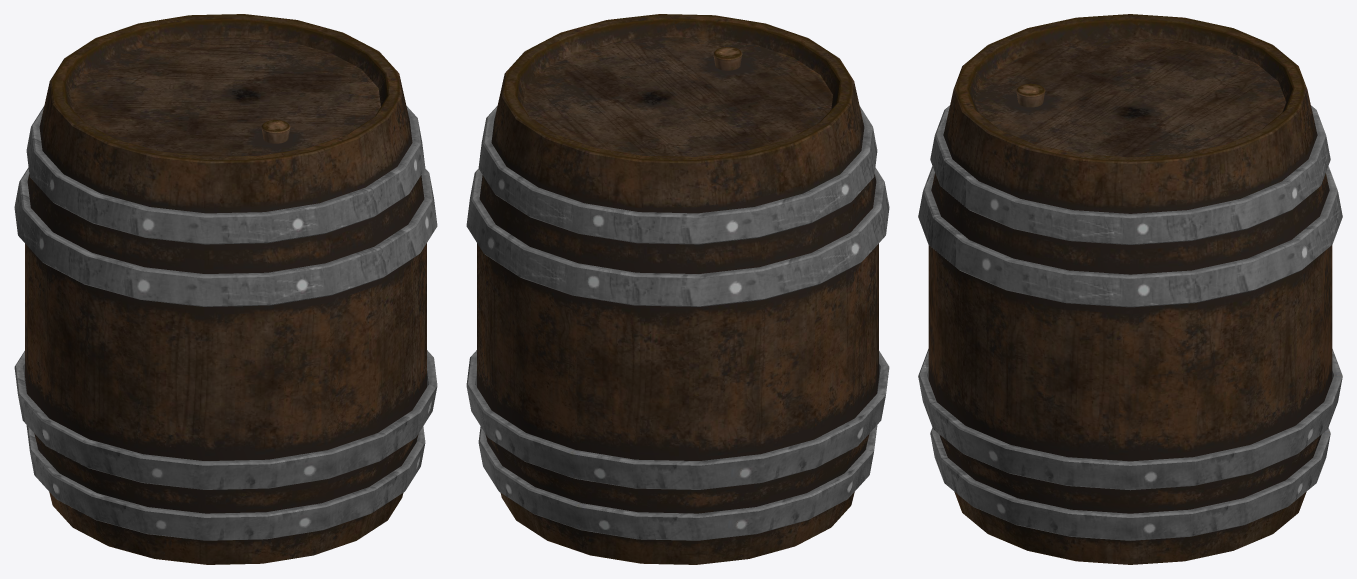
The model's file is Barrel_LP.glb.
The picture shows the model from 3 angles, left to right: view 1: azimuth 30°, elevation 25°; view 2: azimuth 150°, elevation 25°; view 3: azimuth 270°, elevation 25°; orthographic projection.
Visible parts, largest first — view 1: Barrel_LP; view 2: Barrel_LP; view 3: Barrel_LP.
Boxes of the visible parts, <box> form: Barrel_LP: <box>14,14,437,564</box>; Barrel_LP: <box>466,14,889,564</box>; Barrel_LP: <box>918,14,1342,564</box>.
Bounding box in the file's own units: 0.8319 × 0.8706 × 0.8319.
Materials: 1 (1 with a texture image).
